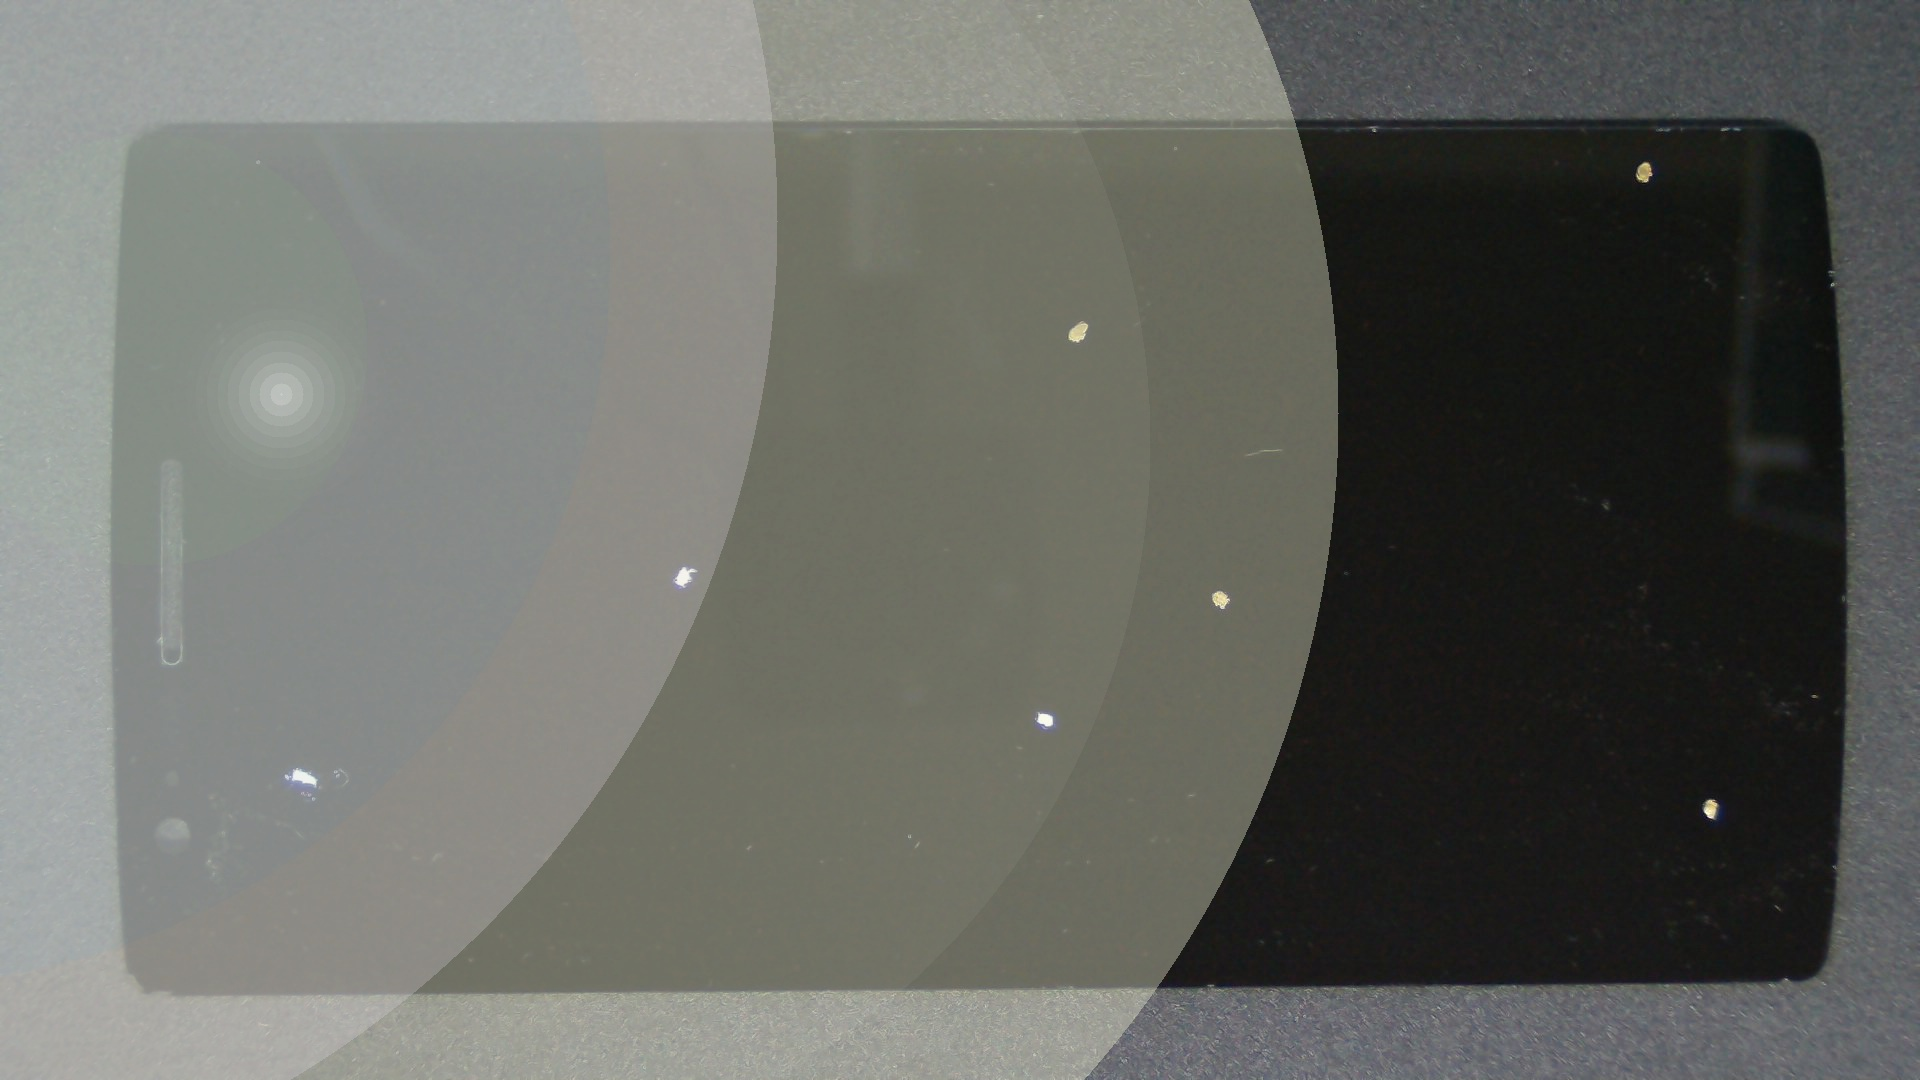oil: (517, 352, 1551, 1063), (857, 398, 1920, 1080), (611, 293, 1829, 881), (343, 281, 1027, 847), (542, 158, 1621, 480), (145, 382, 436, 1080), (824, 79, 1920, 239)
